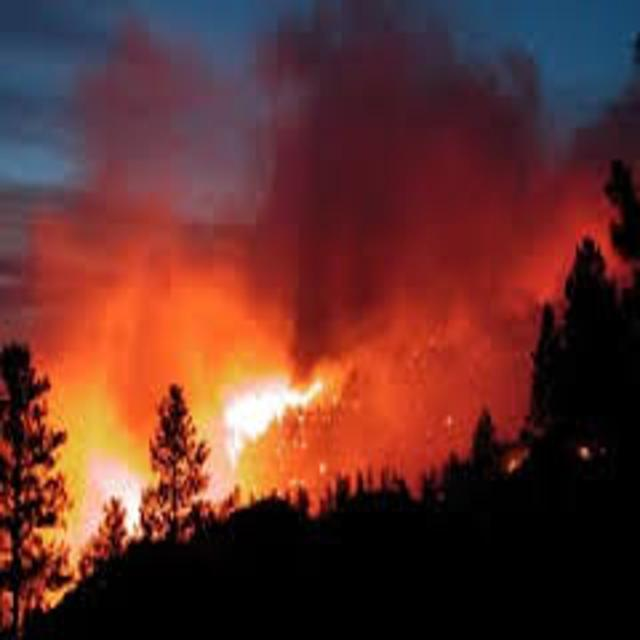Fire: (225, 372, 323, 483), (64, 471, 169, 560)
Smoke: (256, 10, 530, 300), (22, 179, 235, 379), (343, 324, 542, 477)
